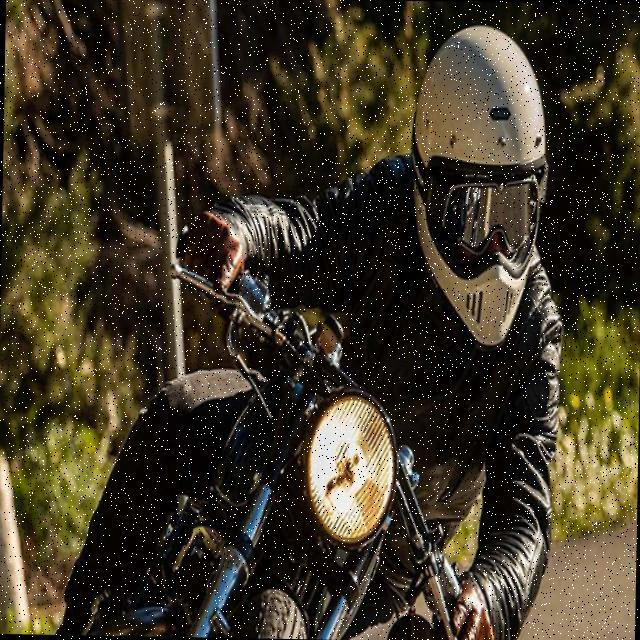Helm: (403, 19, 550, 360)
